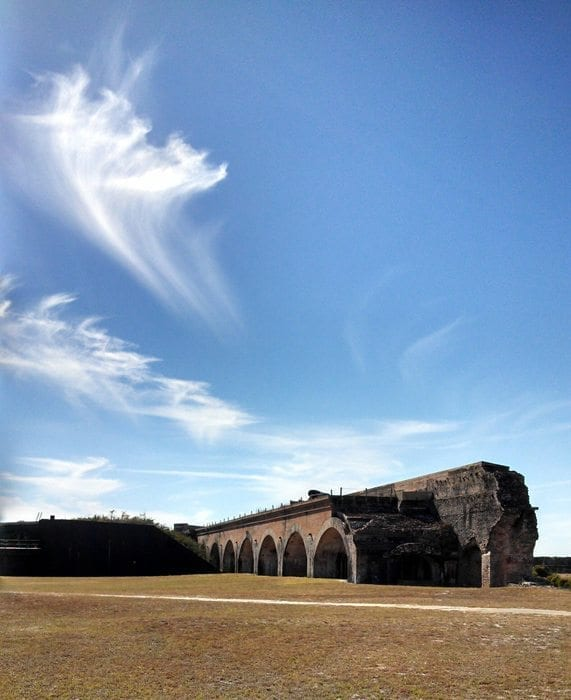Cirrus: (14, 39, 282, 329), (1, 261, 253, 451), (249, 411, 444, 501), (14, 437, 198, 528)
